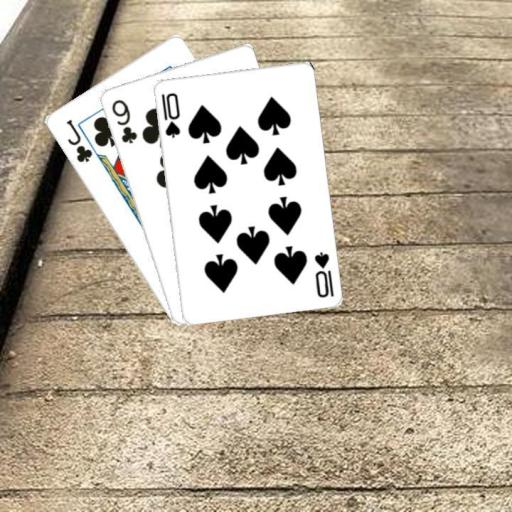10S: (311, 248, 335, 299), (157, 89, 181, 139)
9C: (108, 96, 139, 145)
JC: (62, 116, 94, 164)
